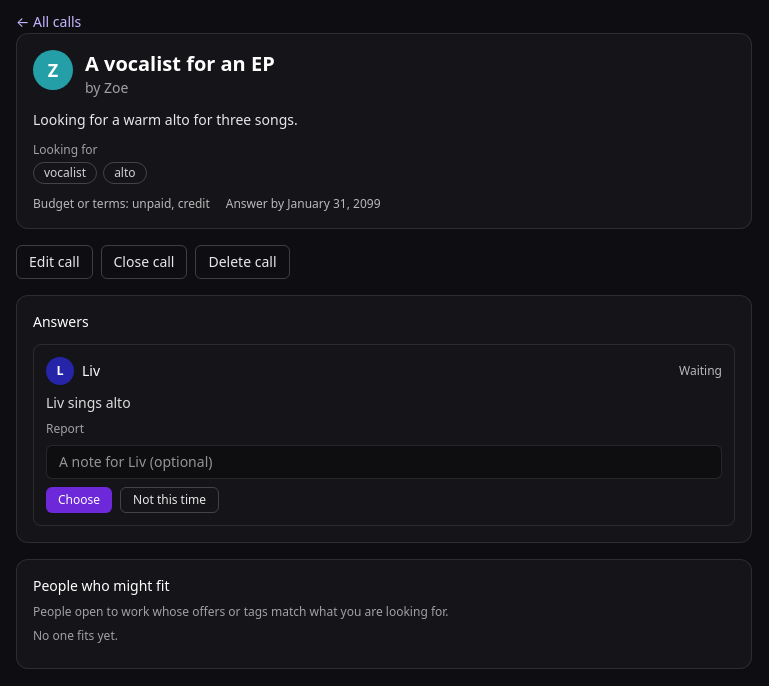
CallPage: your own call › passes on an answer
Step 1. Click the button with aria-label "Pass on Liv's answer" → (170, 500), box [120,487,219,513]
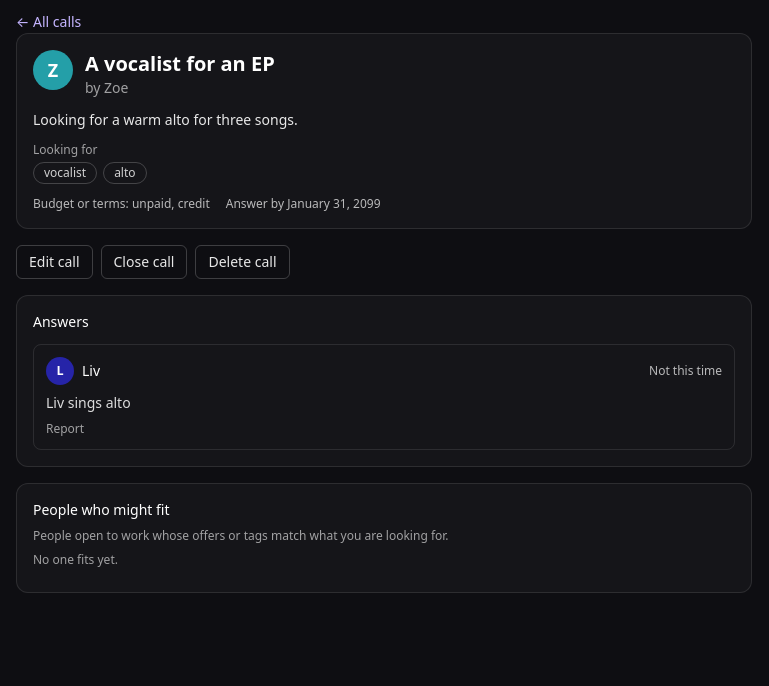
Now the text "Not this time" is shown, box [649,363,722,379]
